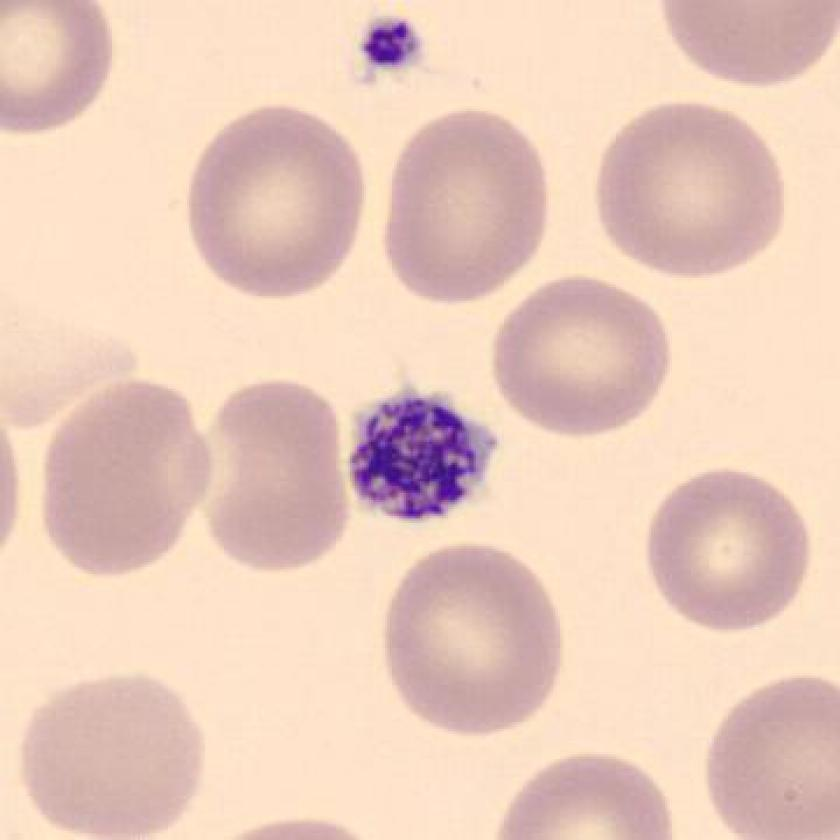platelets: (346, 383, 503, 533), (349, 15, 426, 77)
